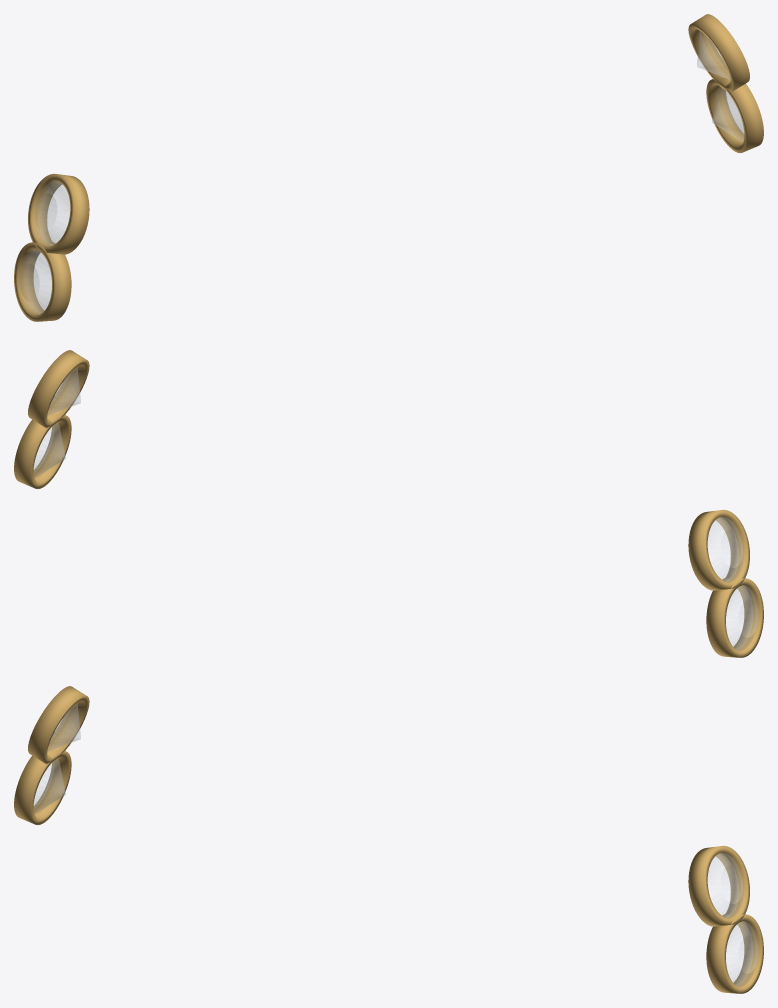
The model's file is accents-bezel-accents-multi.glb.
3 renders of one model, top to bottom at view 1: azimuth 30°, elevation 25°; view 2: azimuth 150°, elevation 25°; view 3: azimuth 330°, elevation 25°, orthographic.
Parts seen in each view (by area): view 1: Accent bezel, Accent bezel.001, Accent bezel.003, Accent bezel.002, Gem, Gem.001, Gem.003, Gem.002; view 2: Accent bezel, Accent bezel.001, Accent bezel.003, Accent bezel.002, Gem, Gem.001, Gem.003, Gem.002; view 3: Accent bezel.002, Accent bezel.003, Accent bezel.001, Accent bezel, Gem.002, Gem.003, Gem.001, Gem.
Part boxes in pixels (left/top/right/bottom): Accent bezel: left=28, top=173, right=89, bottom=254; Accent bezel.001: left=14, top=242, right=71, bottom=321; Accent bezel.003: left=706, top=77, right=763, bottom=152; Accent bezel.002: left=688, top=14, right=749, bottom=92; Gem: left=34, top=181, right=69, bottom=245; Gem.001: left=20, top=249, right=51, bottom=314; Gem.003: left=712, top=87, right=743, bottom=141; Gem.002: left=697, top=31, right=730, bottom=79; Accent bezel: left=688, top=509, right=749, bottom=590; Accent bezel.001: left=706, top=578, right=763, bottom=657; Accent bezel.003: left=14, top=413, right=71, bottom=488; Accent bezel.002: left=28, top=350, right=89, bottom=428; Gem: left=708, top=517, right=743, bottom=581; Gem.001: left=726, top=585, right=757, bottom=650; Gem.003: left=34, top=423, right=65, bottom=477; Gem.002: left=47, top=367, right=80, bottom=415; Accent bezel.002: left=688, top=845, right=749, bottom=926; Accent bezel.003: left=706, top=914, right=763, bottom=993; Accent bezel.001: left=14, top=749, right=71, bottom=824; Accent bezel: left=28, top=686, right=89, bottom=764; Gem.002: left=708, top=853, right=743, bottom=917; Gem.003: left=726, top=921, right=757, bottom=986; Gem.001: left=34, top=759, right=65, bottom=813; Gem: left=47, top=703, right=80, bottom=751.
Size of the model in its own units: 19.86 by 3.59 by 1.89.
